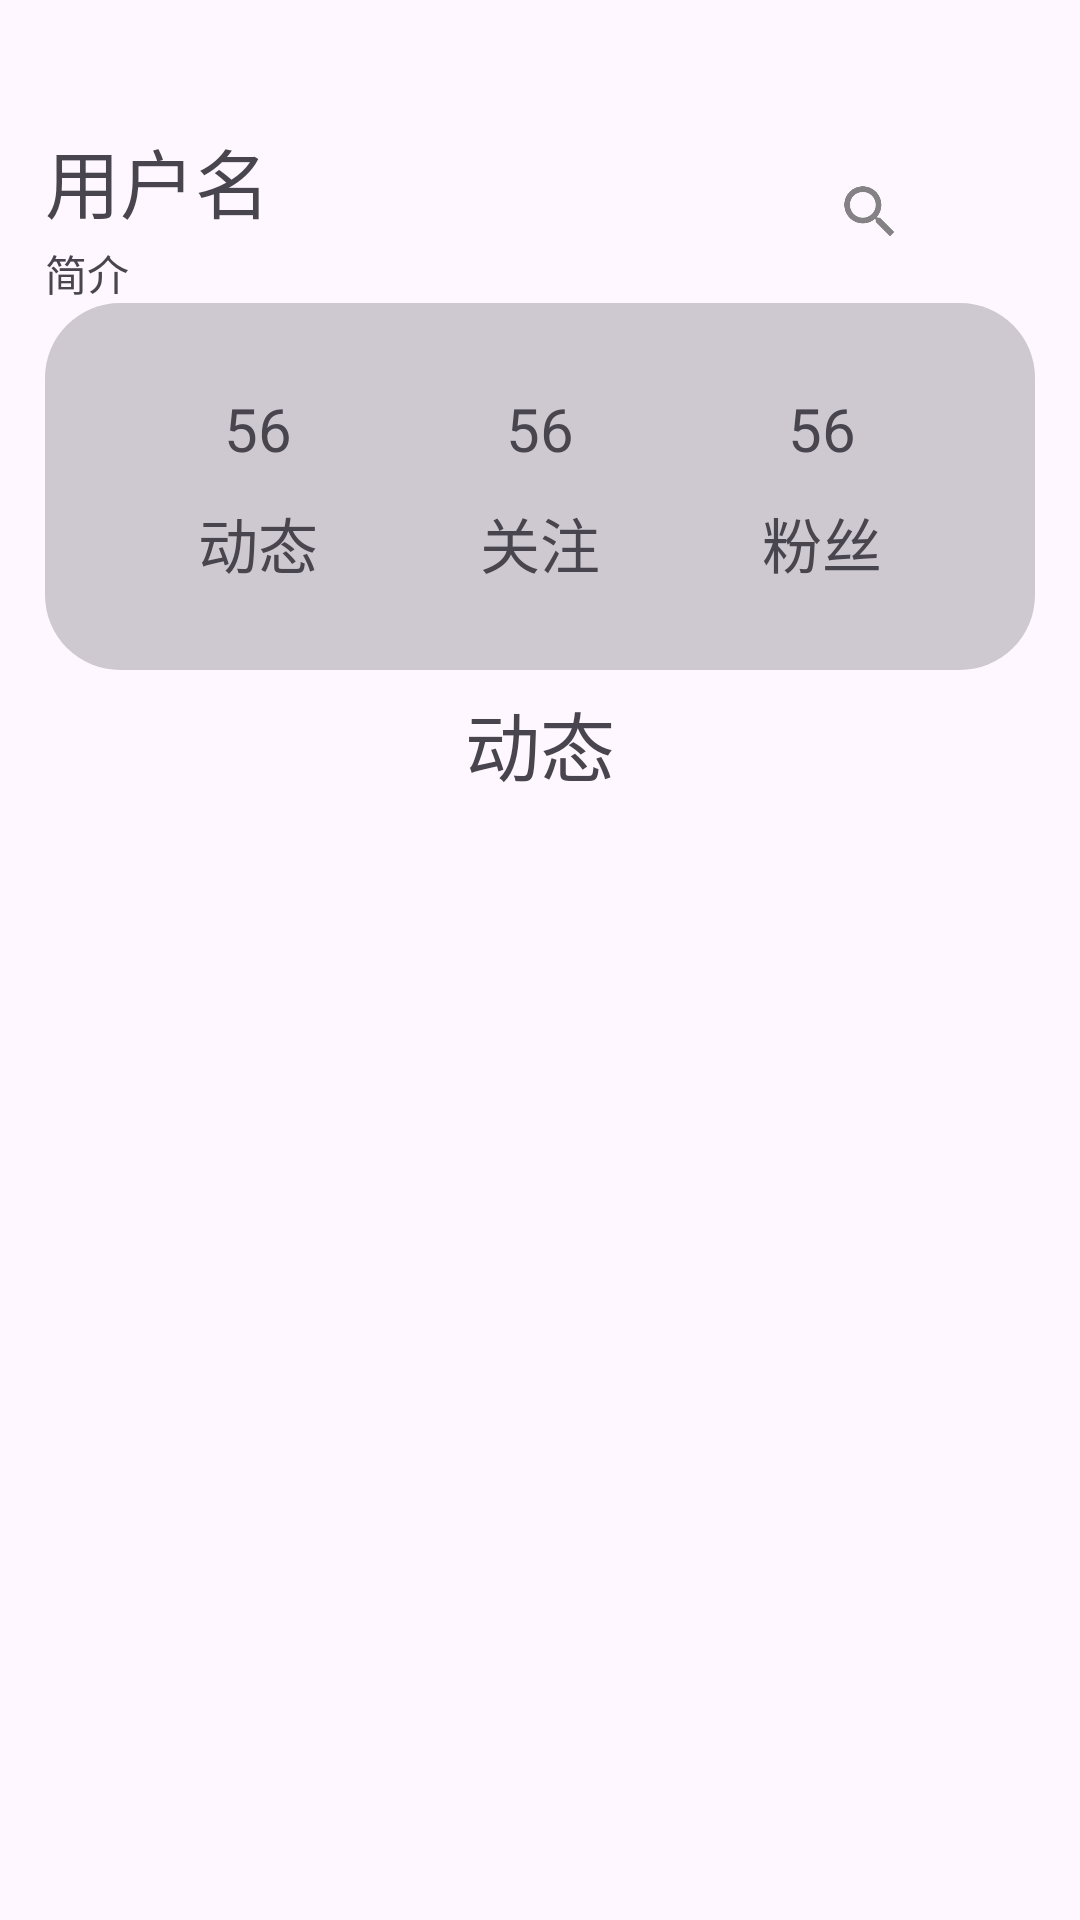

Where icons sit on this 1080px x 1920px app screen, as [x1,y1,x2,y2]:
search: [844,186,894,236]
